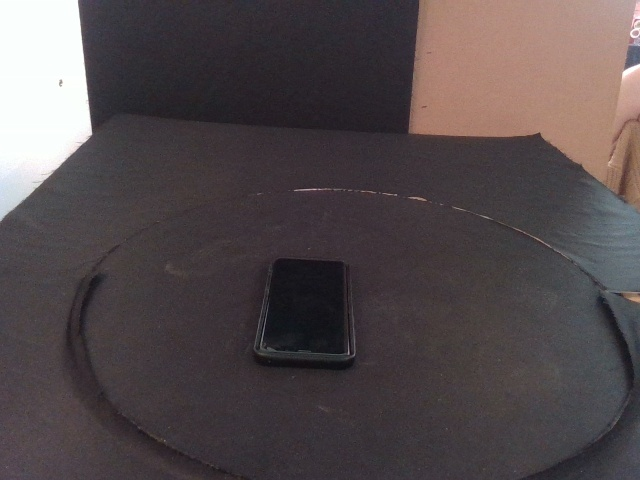phone: (253, 258, 358, 370)
